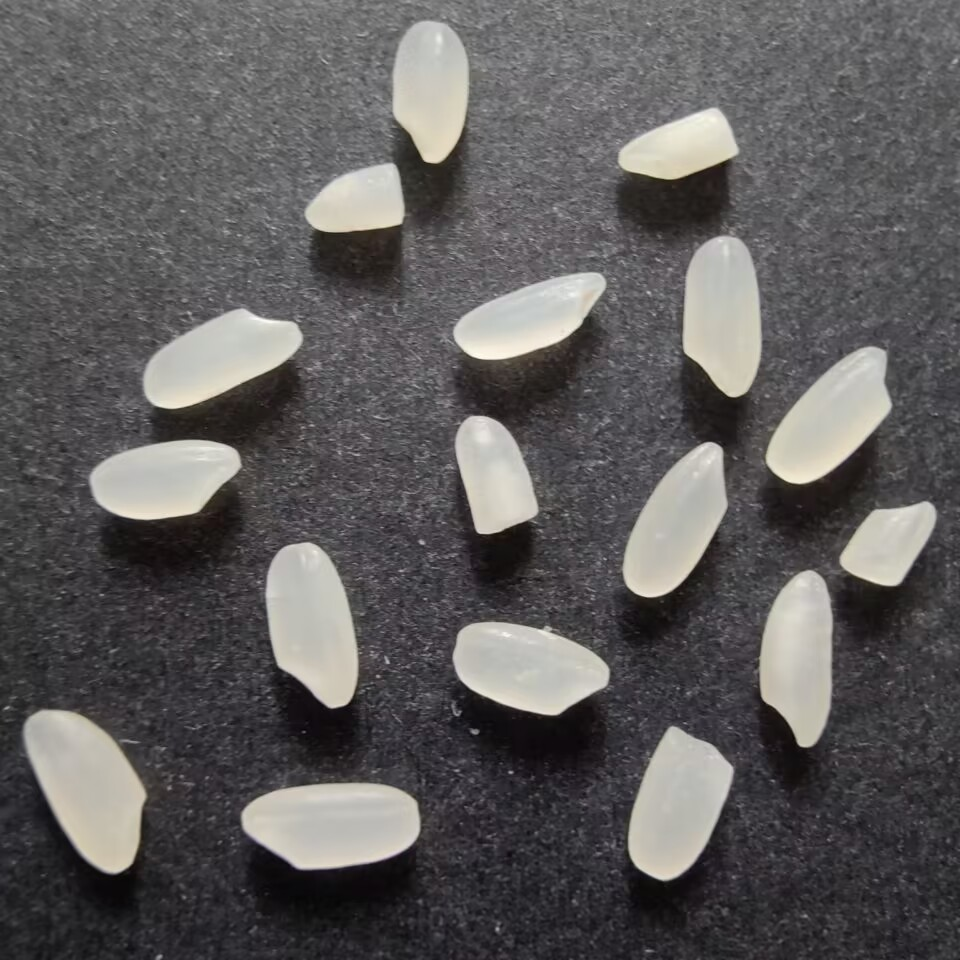broken: (622, 724, 734, 885), (451, 410, 542, 541), (613, 105, 742, 185), (839, 496, 939, 588), (301, 160, 408, 236)
rice: (18, 706, 152, 881), (764, 343, 894, 485), (259, 536, 360, 713), (138, 306, 306, 412), (445, 619, 616, 723), (234, 780, 423, 874), (618, 440, 729, 599), (447, 266, 609, 362), (753, 567, 836, 754), (676, 235, 765, 401), (81, 433, 245, 523), (386, 18, 470, 169)
